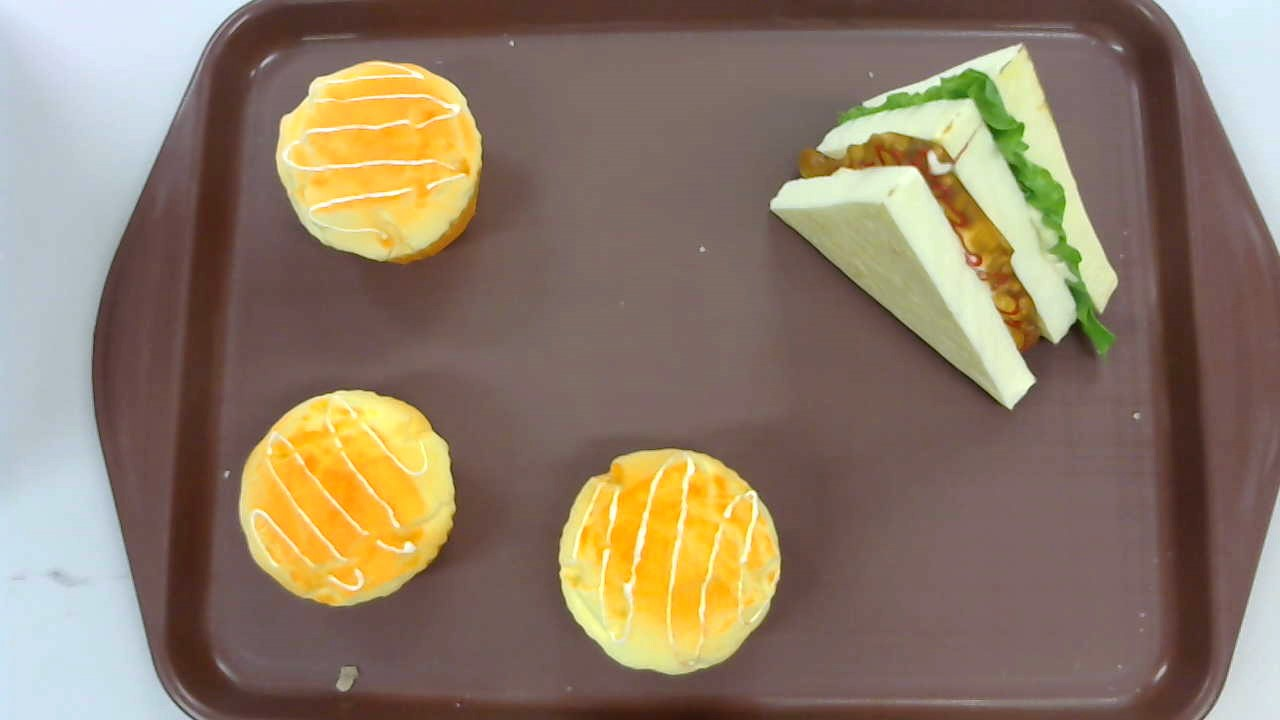cupcake: (558, 449, 780, 676), (239, 390, 458, 609), (273, 59, 485, 266)
sandwich: (768, 41, 1119, 409)
